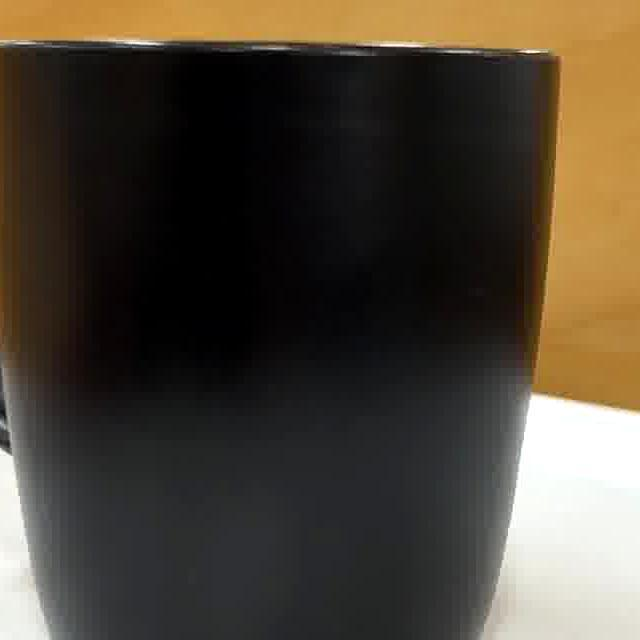cup: (0, 42, 555, 640)
